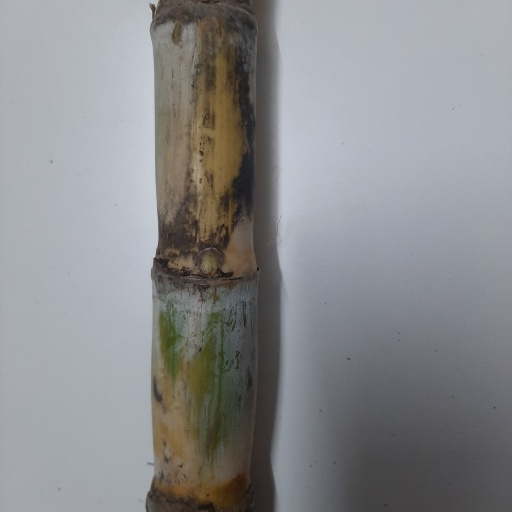Bud: (198, 246, 224, 279)
